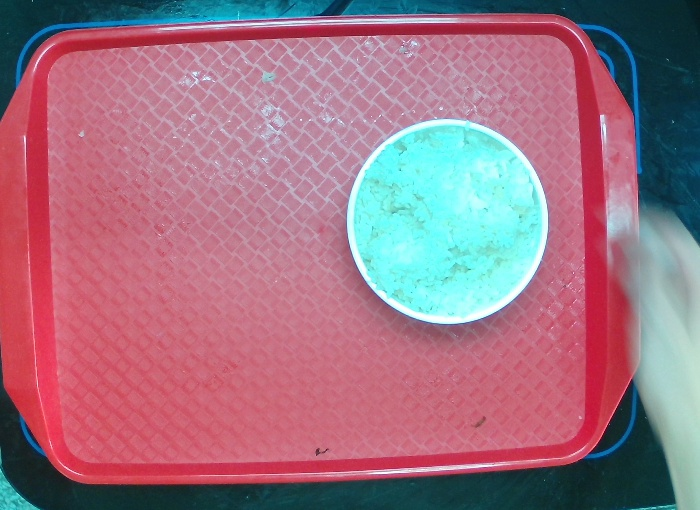YKMZ-Fan_Wan: (344, 114, 550, 326)
